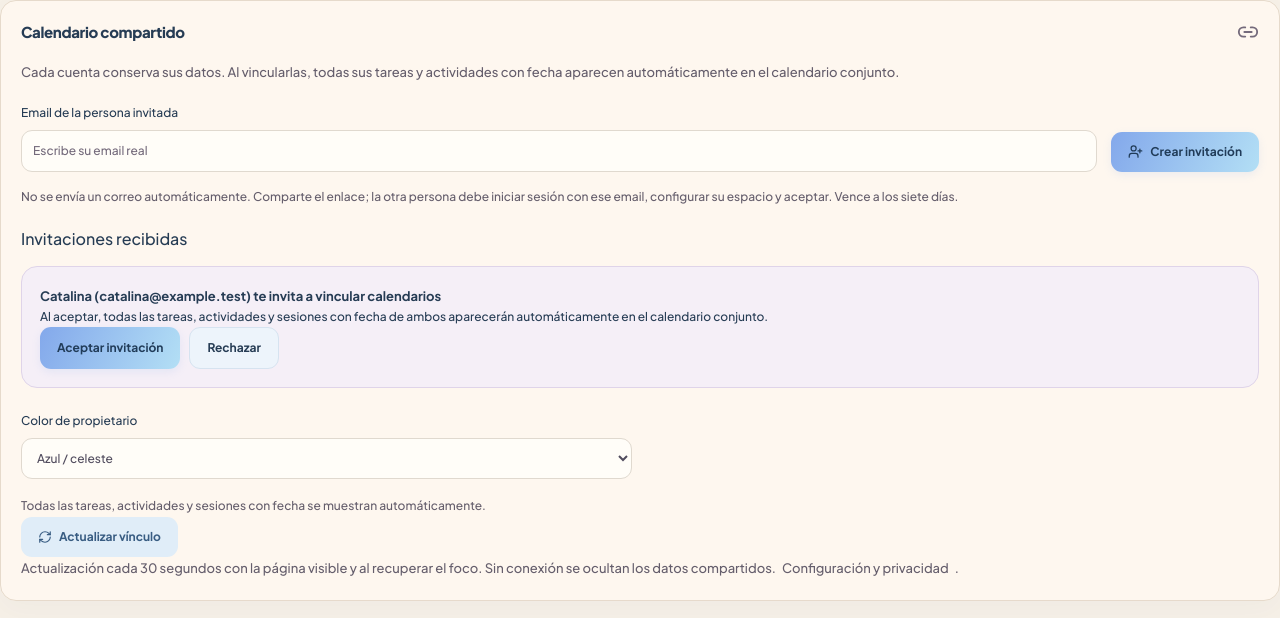
Test: Calendario e invitaciones con backend controlado › permite aceptar y revocar con consentimiento sin exponer un selector de cuentas
The image size is (1280, 618).
Click the button "Aceptar invitación". click: coordinates (110, 348)
box: [40,327,180,369]
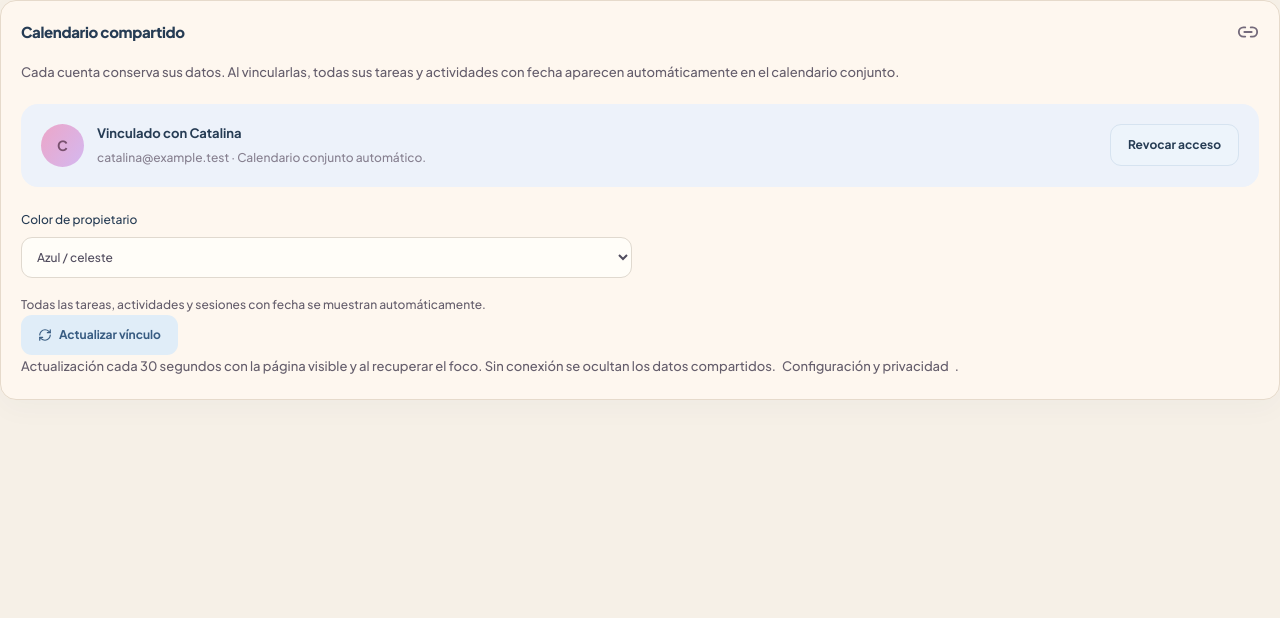
expect the text "Vinculado con Catalina" is shown: met, box [97,125,241,141]
Click the button "Revocar acceso". click: coordinates (1174, 145)
box: [1110,124,1239,166]
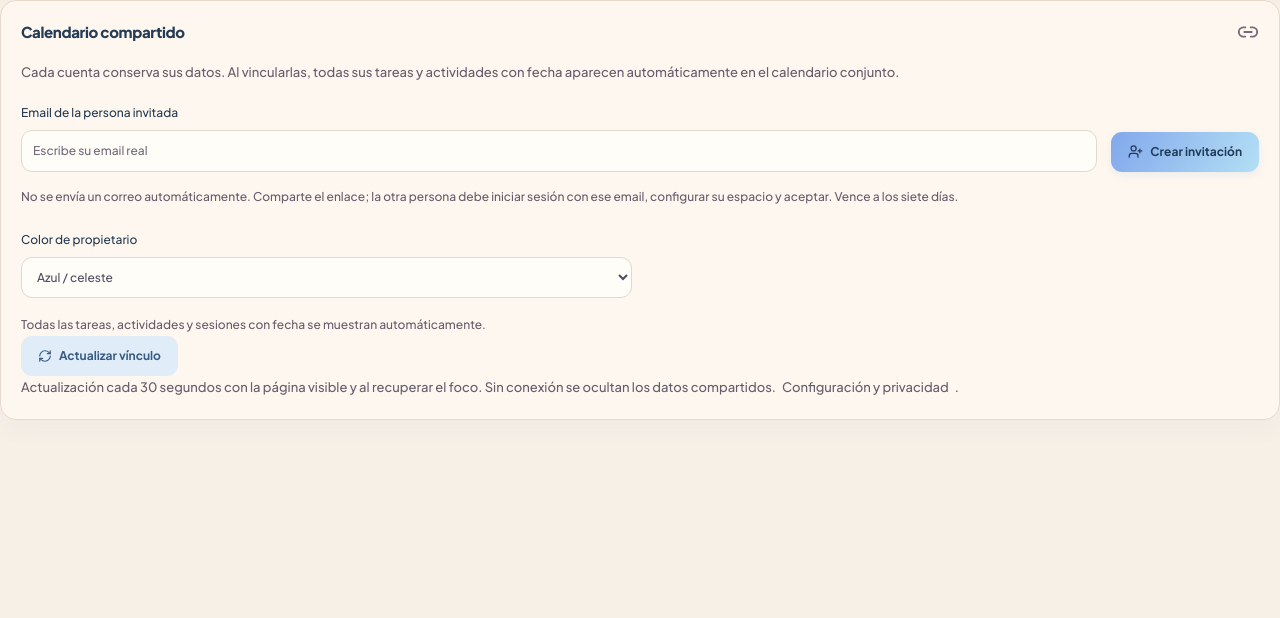
expect the button "Crear invitación" is shown: met, box [1111,132,1259,172]
expect the text "Vinculado con Catalina" is gone: met
